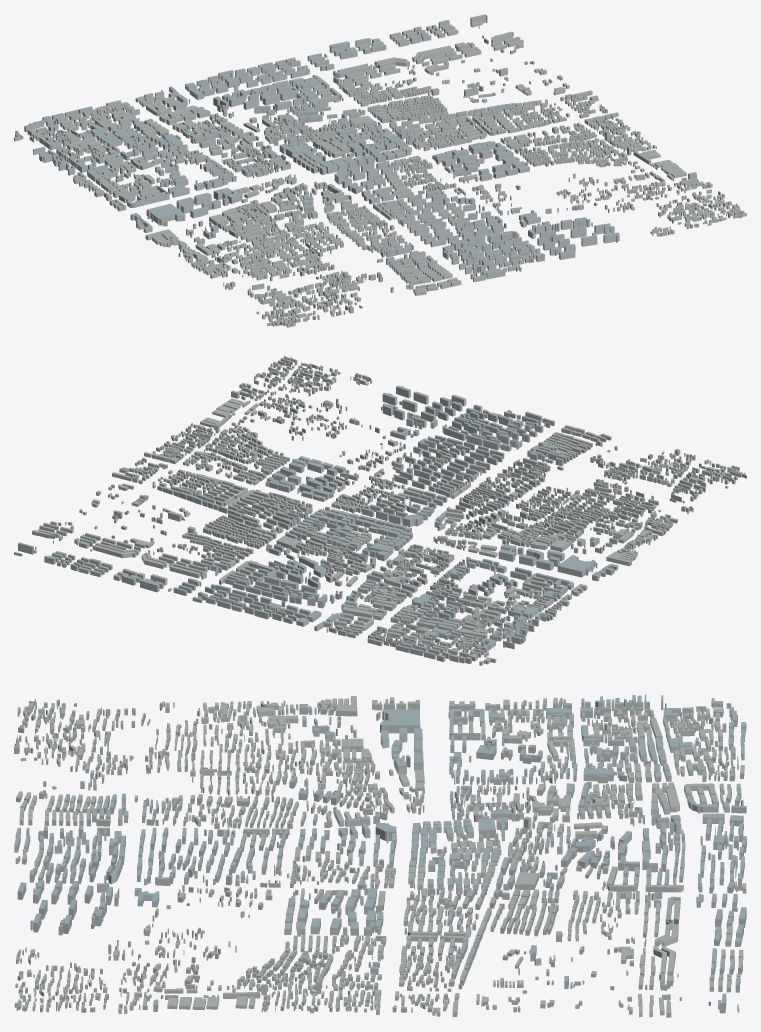
The model's file is far.glb.
3 renders of one model, top to bottom at view 1: azimuth 30°, elevation 25°; view 2: azimuth 150°, elevation 25°; view 3: azimuth 270°, elevation 25°, orthographic. The views are drawn at different scales.
Size of the model in its own units: 2152 by 35.26 by 2108.
